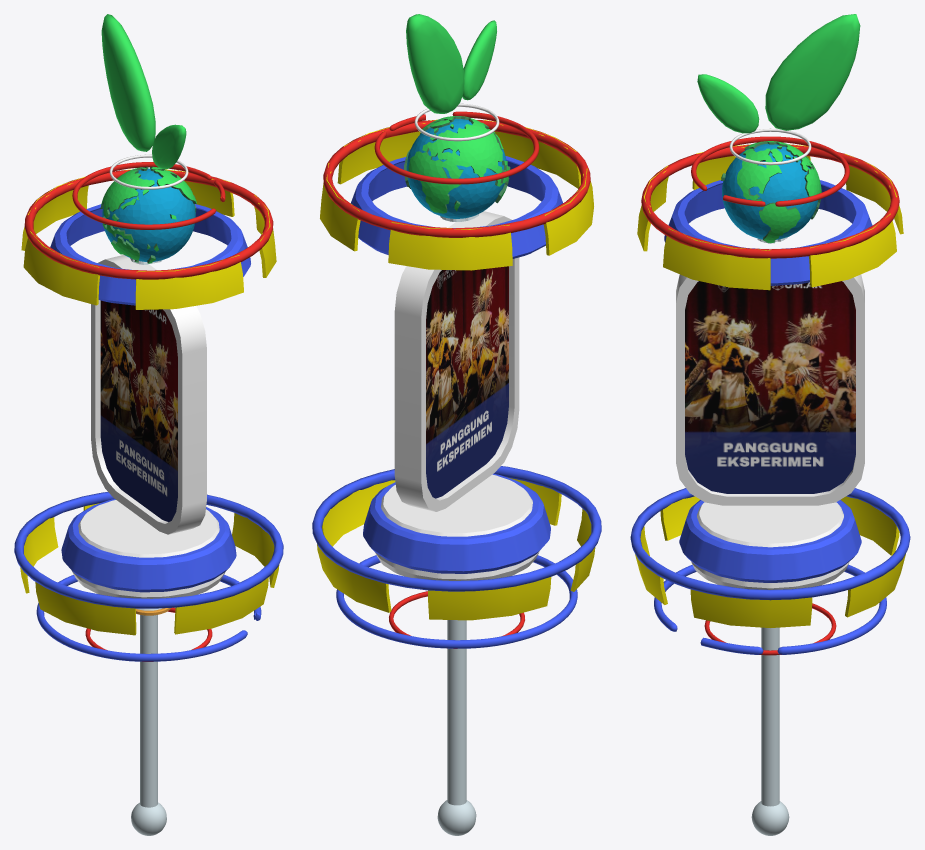
Rendered from panggung_eks.glb.
3 renders of one model, left to right at view 1: azimuth 30°, elevation 25°; view 2: azimuth 150°, elevation 25°; view 3: azimuth 270°, elevation 25°, orthographic. The views are drawn at different scales.
Parts seen in each view (by area): view 1: pCube3, polySurface2, pasted__pSphere8, pasted__pSphere6, pasted__pCylinder9, Sphere, pasted__pCylinder10, pCube5, pasted__polySurface27, pasted__polySurface28, pasted__pCone1, pasted__polySurface30 (+3 smaller); view 2: pCube3, polySurface2, pasted__pSphere8, pasted__pSphere6, pasted__pCylinder9, Sphere, pasted__pCylinder10, pasted__polySurface27, pCube5, pasted__polySurface28, pasted__polySurface30, pasted__pCone1 (+4 smaller); view 3: pCube3, pasted__pSphere8, pCube5, pasted__pSphere6, Sphere, pasted__pCylinder9, pasted__pCylinder10, polySurface2, pasted__polySurface27, pasted__polySurface28, pasted__polySurface30, pasted__pCone1 (+4 smaller).
Part boxes in pixels (<box>): pCube3: <box>100,300,177,522</box>; polySurface2: <box>91,255,206,534</box>; pasted__pSphere8: <box>21,169,276,309</box>; pasted__pSphere6: <box>20,503,279,635</box>; pasted__pCylinder9: <box>61,499,236,592</box>; Sphere: <box>100,166,196,264</box>; pasted__pCylinder10: <box>71,500,225,598</box>; pCube5: <box>101,14,186,169</box>; pasted__polySurface27: <box>14,492,283,608</box>; pasted__polySurface28: <box>24,170,273,279</box>; pasted__pCone1: <box>131,608,166,835</box>; pasted__polySurface30: <box>50,204,250,305</box>; pCube3: <box>426,266,508,498</box>; polySurface2: <box>394,211,519,511</box>; pasted__pSphere8: <box>320,119,593,270</box>; pasted__pSphere6: <box>317,477,595,620</box>; pasted__pCylinder9: <box>363,473,550,573</box>; Sphere: <box>404,116,510,221</box>; pasted__pCylinder10: <box>375,474,539,580</box>; pasted__polySurface27: <box>312,466,601,591</box>; pCube5: <box>406,14,496,113</box>; pasted__polySurface28: <box>323,120,590,237</box>; pasted__polySurface30: <box>350,156,562,258</box>; pasted__pCone1: <box>437,620,476,835</box>; pCube3: <box>685,281,855,493</box>; pasted__pSphere8: <box>637,144,903,290</box>; pCube5: <box>697,14,860,133</box>; pasted__pSphere6: <box>635,496,905,627</box>; Sphere: <box>721,141,821,243</box>; pasted__pCylinder9: <box>679,500,861,582</box>; pasted__pCylinder10: <box>691,502,849,589</box>; polySurface2: <box>676,248,864,505</box>; pasted__polySurface27: <box>630,488,910,600</box>; pasted__polySurface28: <box>641,144,899,258</box>; pasted__polySurface30: <box>664,180,872,285</box>; pasted__pCone1: <box>751,627,789,835</box>.
Size of the model in its own units: 0.0149 by 0.0481 by 0.0149.
Materials: 10 (1 with a texture image).
